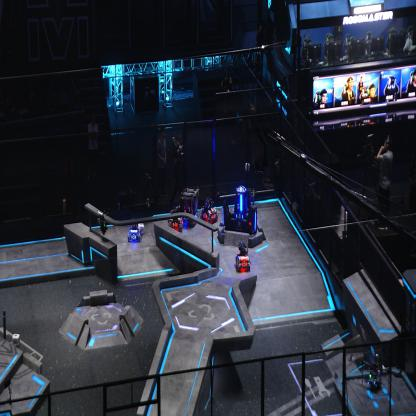car: (178, 185, 199, 227), (200, 194, 218, 225), (234, 241, 251, 272), (242, 188, 258, 218), (168, 205, 183, 233), (127, 218, 141, 242)
